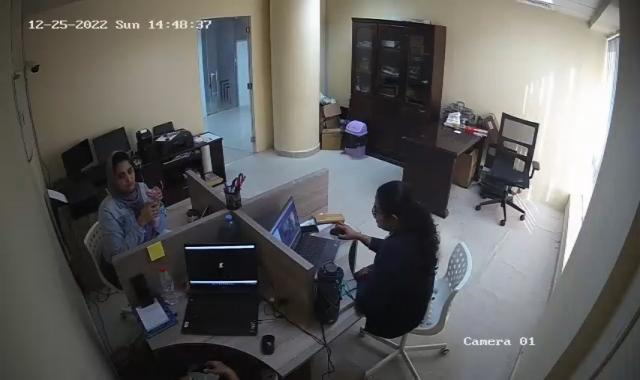no_hairnet: (373, 180, 416, 230), (102, 151, 136, 190)
